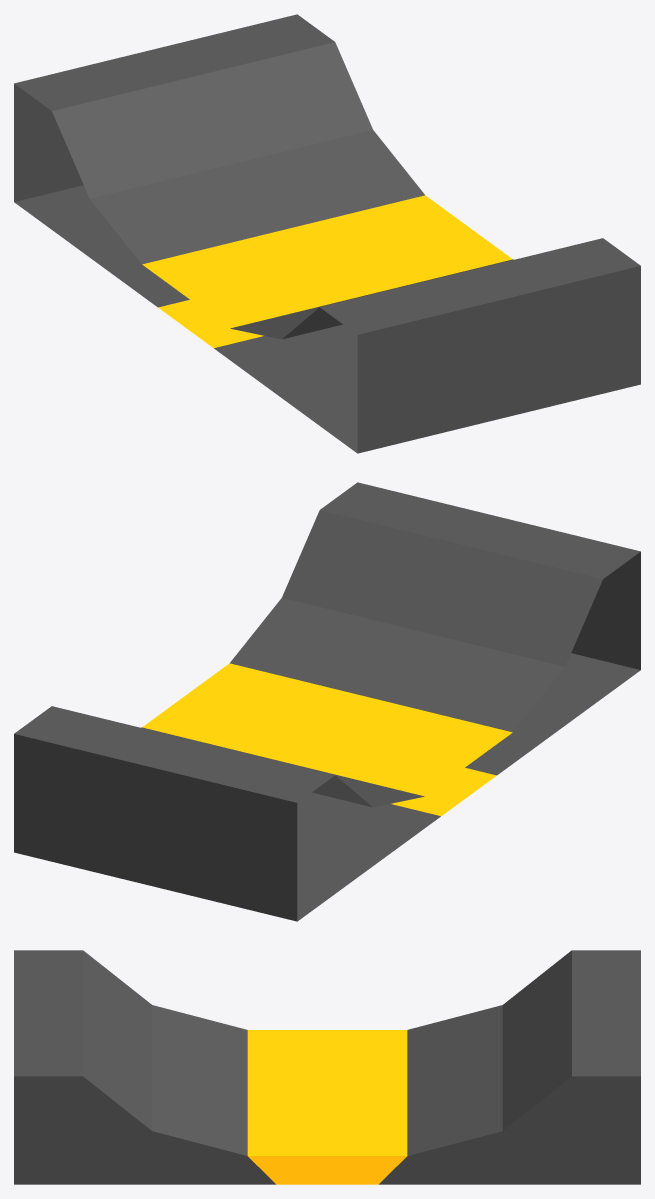
File: Spline_Slip_Halfpipe_2.fbx
3 views of the same model, one above another, from view 1: azimuth 30°, elevation 25°; view 2: azimuth 150°, elevation 25°; view 3: azimuth 270°, elevation 25° (orthographic). The views are drawn at different scales.
Parts seen in each view (by area): view 1: Spline_Slip_Halfpipe 2; view 2: Spline_Slip_Halfpipe 2; view 3: Spline_Slip_Halfpipe 2.
Part boxes in pixels (x1=…): Spline_Slip_Halfpipe 2: x1=14, y1=14, x2=640, y2=453; Spline_Slip_Halfpipe 2: x1=14, y1=482, x2=640, y2=921; Spline_Slip_Halfpipe 2: x1=14, y1=950, x2=640, y2=1184.
Size of the model in its own units: 1000 by 400 by 2100.
